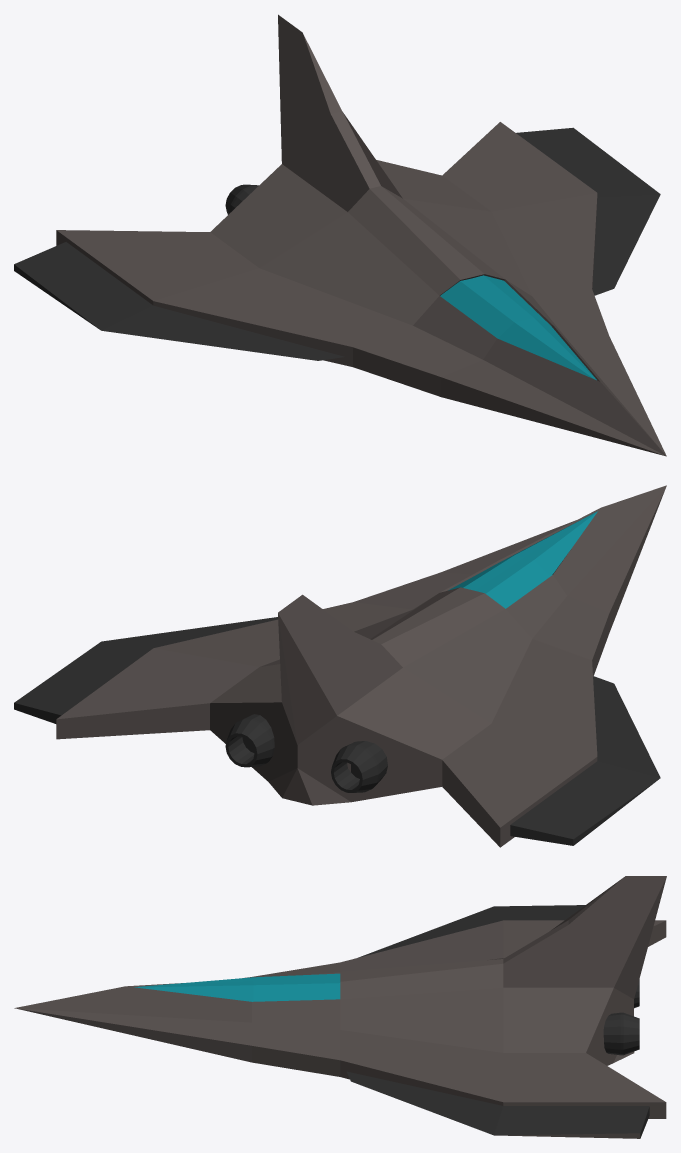
File: airplane1.fbx
3 views of the same model, one above another, from view 1: azimuth 30°, elevation 25°; view 2: azimuth 150°, elevation 25°; view 3: azimuth 270°, elevation 25° (orthographic). The views are drawn at different scales.
Visible parts, largest first — view 1: Airplane; view 2: Airplane; view 3: Airplane.
Boxes of the visible parts, box(x1,y1,x2,y2) form: Airplane: box(14, 14, 666, 456); Airplane: box(14, 485, 666, 847); Airplane: box(14, 876, 666, 1138).
Bounding box in the file's own units: 665 × 235 × 801.
